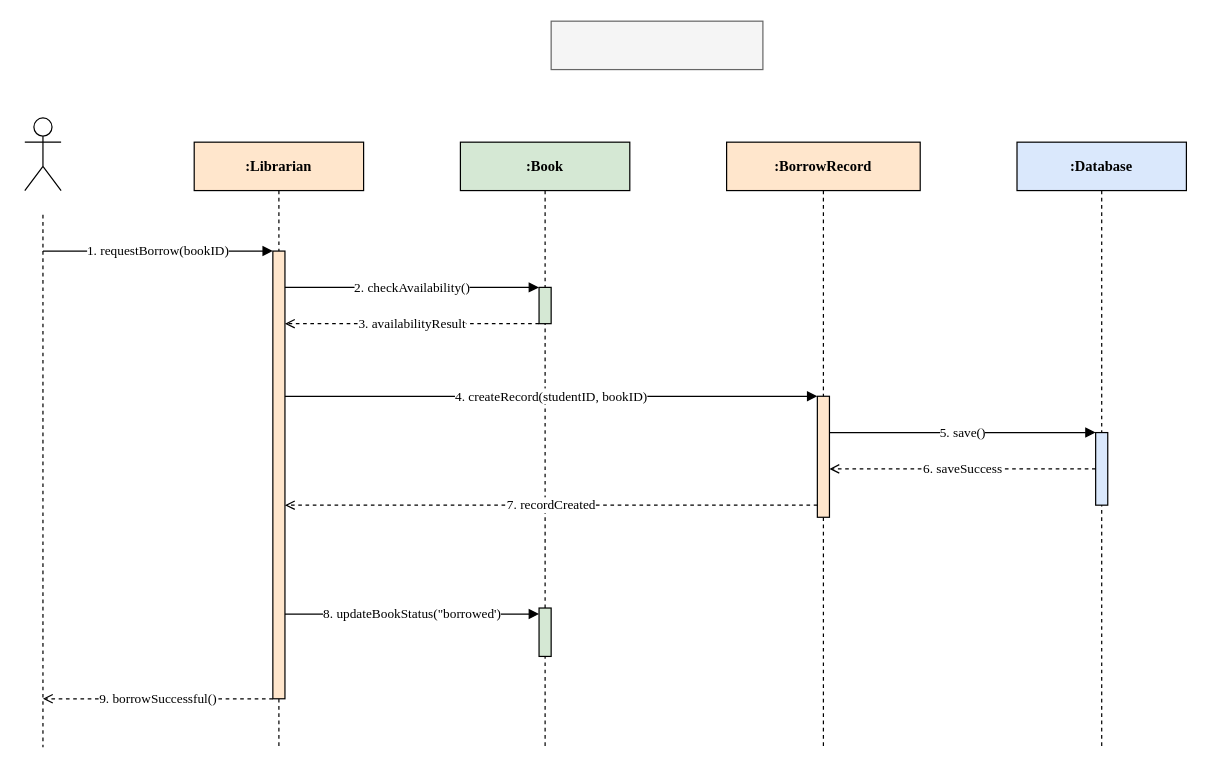
Image size: 1208x770. Some labels were removed from this diagram. Here are the shapes that lost their labels. From the top down, the centre of each, then its label:
At point 656,45: "Sequence Diagram".
At point 42,154: "Student".
